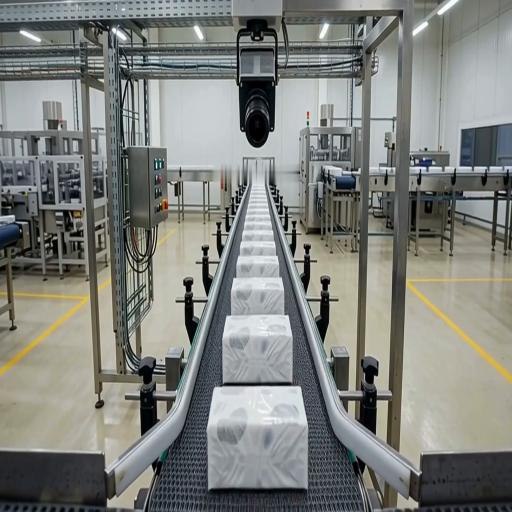good: (206, 386, 308, 491), (221, 313, 294, 384), (229, 276, 285, 314), (236, 255, 280, 277), (240, 241, 276, 256), (241, 229, 274, 240), (243, 220, 273, 230), (245, 214, 271, 220), (246, 208, 270, 214), (248, 198, 268, 203), (247, 203, 269, 207), (249, 195, 267, 199), (250, 191, 266, 195), (251, 187, 266, 190), (251, 184, 265, 187)
